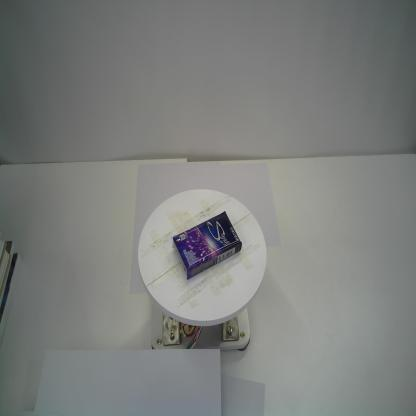Gum: (172, 212, 242, 280)
